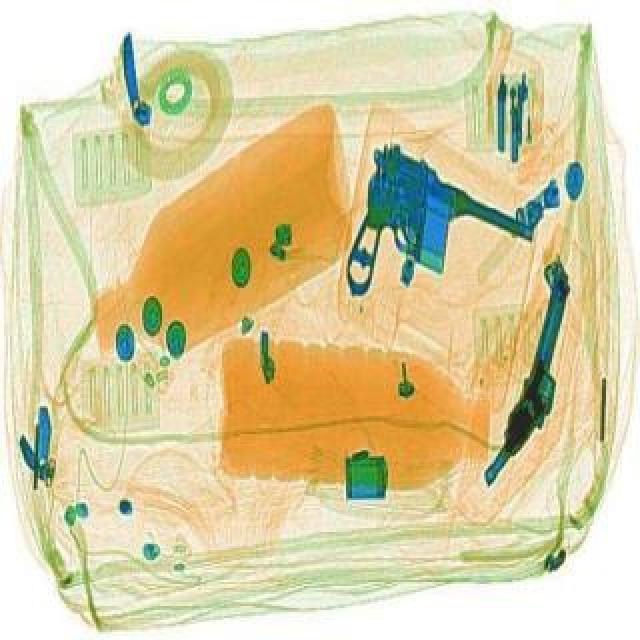gun: (300, 136, 540, 348), (486, 252, 582, 490)
